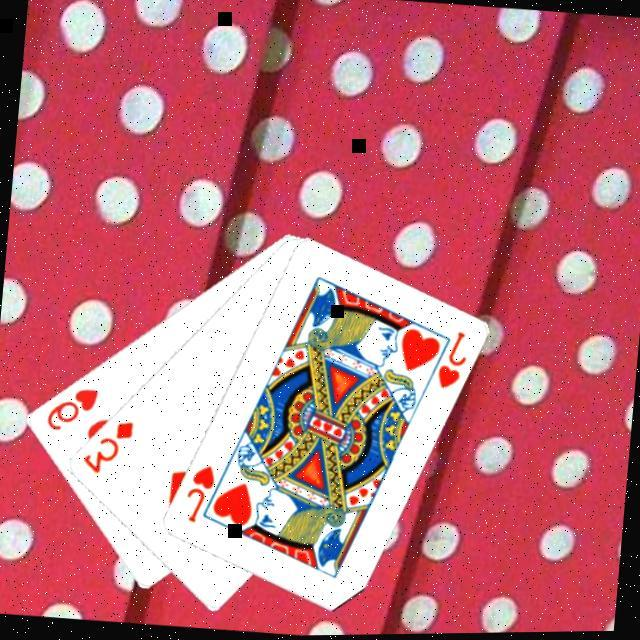3D: (75, 412, 134, 478)
6H: (40, 379, 100, 436)
JH: (177, 459, 216, 527), (431, 327, 469, 394)
